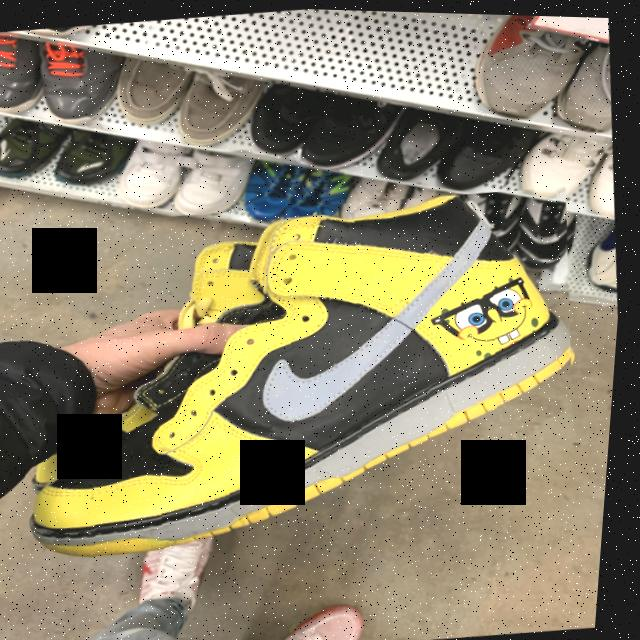shoe: (0, 169, 603, 583)
